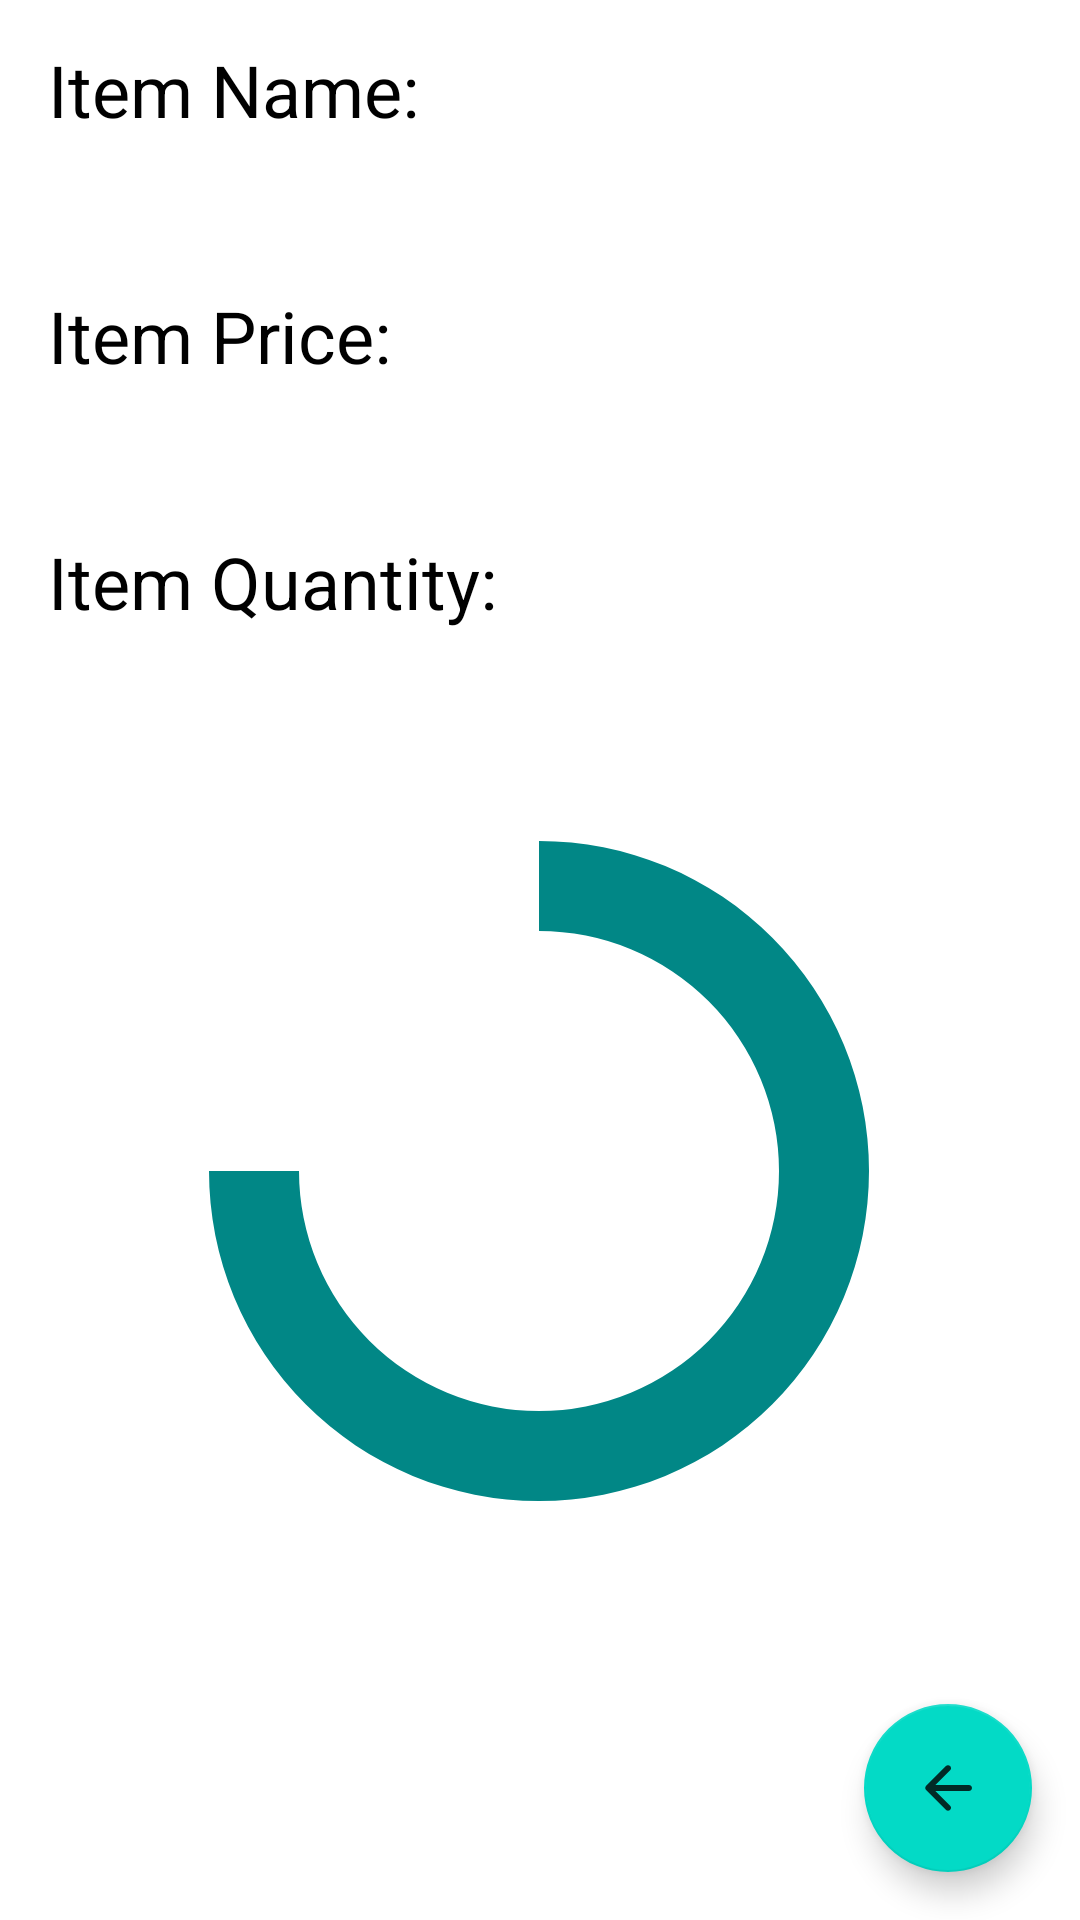

Where icons sit on this 1080×1920 app screen, as (x1, y1, x2, y2):
arrow back: (864, 1704, 1032, 1872)
